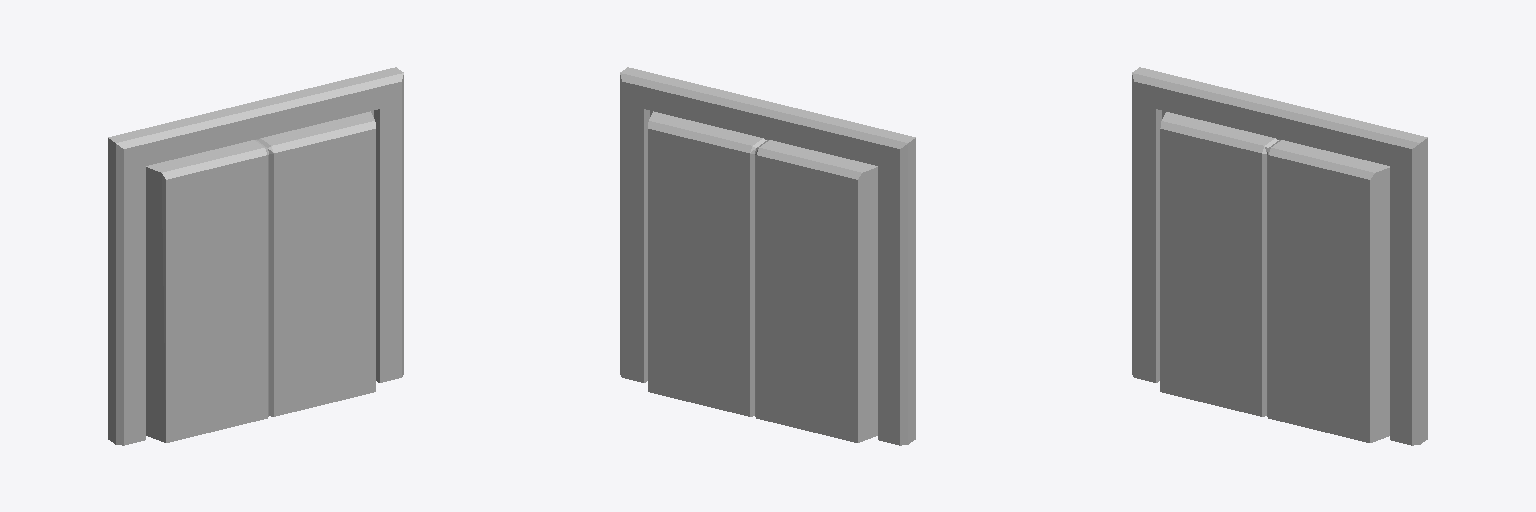
The model's file is Wall_Green.obj.
3 views of the same model, side by side, from view 1: azimuth 30°, elevation 25°; view 2: azimuth 150°, elevation 25°; view 3: azimuth 330°, elevation 25° (orthographic).
Visible parts, largest first — view 1: Wall_Green; view 2: Wall_Green; view 3: Wall_Green.
Boxes of the visible parts, <box> form: Wall_Green: <box>108,67,403,445</box>; Wall_Green: <box>620,67,915,445</box>; Wall_Green: <box>1132,67,1427,445</box>.
Bounding box in the file's own units: 4 × 4 × 0.7166.